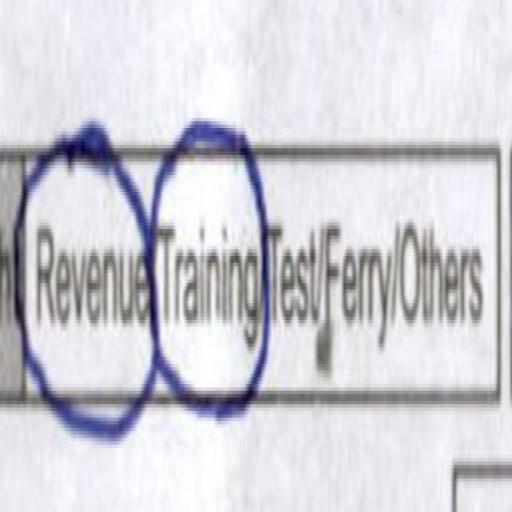check: (156, 10, 272, 456), (33, 92, 154, 493)
